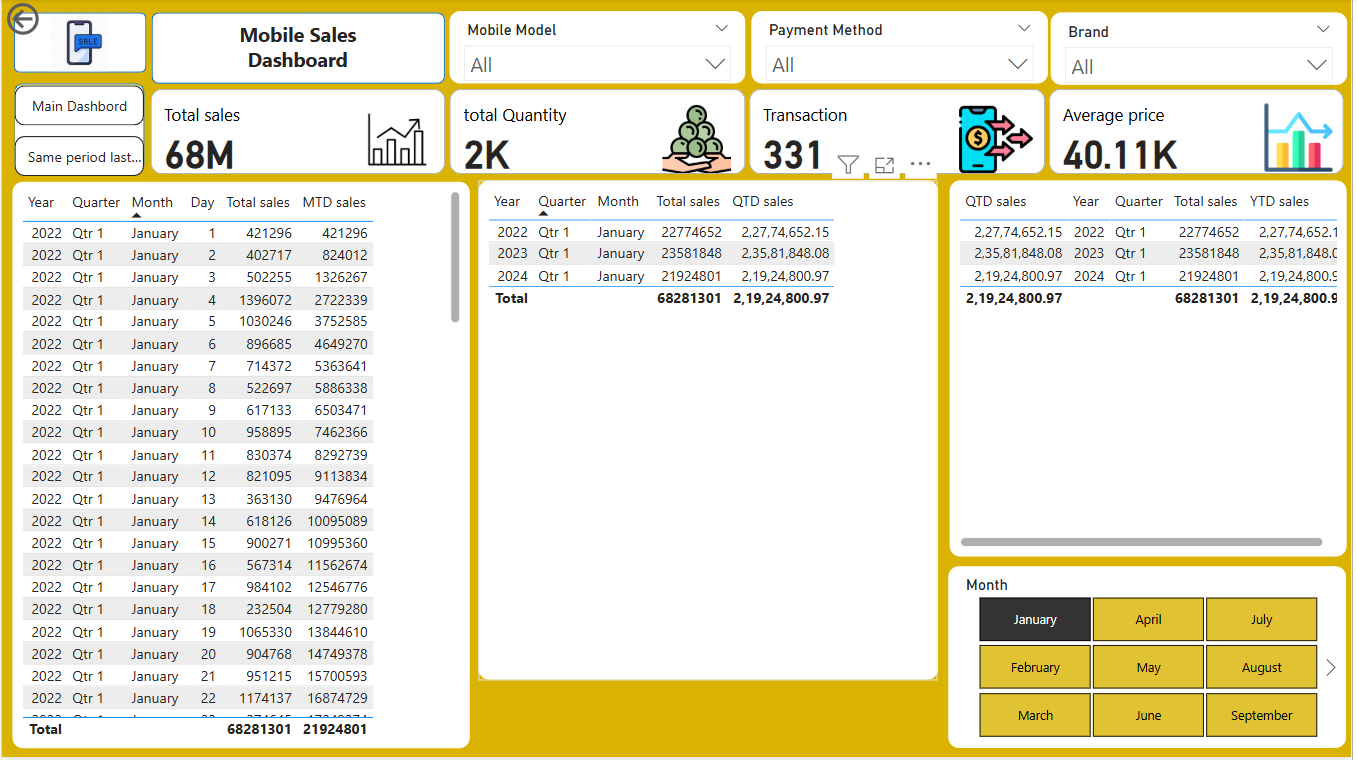

Layout of this report page (visuals, bound fields, positions):
{"tool":"powerbi","page":{"name":"MTD QTD YTD","canvas":[1280,720],"ordinal":1},"visuals":[{"type":"shape","box":[10.7,13.3,125.3,57.3],"z":0},{"type":"shape","box":[11.2,80.6,124.4,85.6],"z":1000},{"type":"cardVisual","fields":{"Data":["Mobile sales data.Total sales","Mobile sales data.total unit sold","Mobile sales data.Transaction","Avg(Mobile sales data.Average price)"]},"box":[136,81,1144,91],"z":2000},{"type":"shape","box":[142.3,13.5,278.5,67.7],"z":3000},{"type":"textbox","box":[208.3,16.7,145,60],"z":4000},{"type":"slicer","fields":{"Values":["Mobile sales data.Payment Method"]},"box":[710.3,12.6,281.3,68.7],"z":5000},{"type":"slicer","fields":{"Values":["Mobile sales data.Mobile Model"]},"box":[424.8,12.6,280.6,68.7],"z":6000},{"type":"slicer","fields":{"Values":["Mobile sales data.Brand"]},"box":[994.5,13.5,281,68.7],"z":7000},{"type":"actionButton","box":[0,0,100,40],"z":8000},{"type":"tableEx","fields":{"Values":["Custom Calendar.Date.Variation.Date Hierarchy.Year","Custom Calendar.Date.Variation.Date Hierarchy.Quarter","Custom Calendar.Date.Variation.Date Hierarchy.Month","Custom Calendar.Date.Variation.Date Hierarchy.Day","Mobile sales data.Total sales","Mobile sales data.MTD sales"]},"box":[10,173.8,433.8,537.5],"z":9000},{"type":"tableEx","fields":{"Values":["Custom Calendar.Date.Variation.Date Hierarchy.Year","Custom Calendar.Date.Variation.Date Hierarchy.Quarter","Custom Calendar.Date.Variation.Date Hierarchy.Month","Mobile sales data.Total sales","Mobile sales data.QTD sales"]},"box":[452.2,173.3,435.6,473.3],"z":10000},{"type":"tableEx","fields":{"Values":["Mobile sales data.QTD sales","Custom Calendar.Date.Variation.Date Hierarchy.Year","Custom Calendar.Date.Variation.Date Hierarchy.Quarter","Mobile sales data.Total sales","Mobile sales data.YTD sales"]},"box":[898.9,173.3,376.7,356.7],"z":11000},{"type":"slicer","fields":{"Values":["Custom Calendar.Date.Variation.Date Hierarchy.Month"]},"box":[897.5,538.8,377.5,172.5],"z":12000},{"type":"pageNavigator","box":[11.2,82.1,125.7,88.4],"z":13000},{"type":"image","box":[34.8,10,77.2,64.7],"z":14000}]}

Visuals, with their boxes in screenshot pixels (x1, y1, x2, y2), scaled from the page's 1280x720 canvas onto the 1357x760 screenshot:
shape: {"x1": 11, "y1": 14, "x2": 144, "y2": 75}
shape: {"x1": 12, "y1": 85, "x2": 144, "y2": 175}
cardVisual - Mobile sales data.Total sales x Mobile sales data.total unit sold: {"x1": 144, "y1": 86, "x2": 1356, "y2": 182}
shape: {"x1": 151, "y1": 14, "x2": 446, "y2": 86}
textbox: {"x1": 221, "y1": 18, "x2": 375, "y2": 81}
slicer - Mobile sales data.Payment Method: {"x1": 753, "y1": 13, "x2": 1051, "y2": 86}
slicer - Mobile sales data.Mobile Model: {"x1": 450, "y1": 13, "x2": 748, "y2": 86}
slicer - Mobile sales data.Brand: {"x1": 1054, "y1": 14, "x2": 1352, "y2": 87}
actionButton: {"x1": 0, "y1": 0, "x2": 106, "y2": 42}
tableEx - Custom Calendar.Date.Variation.Date Hierarchy.Year x Custom Calendar.Date.Variation.Date Hierarchy.Quarter: {"x1": 11, "y1": 183, "x2": 470, "y2": 751}
tableEx - Custom Calendar.Date.Variation.Date Hierarchy.Year x Custom Calendar.Date.Variation.Date Hierarchy.Quarter: {"x1": 479, "y1": 183, "x2": 941, "y2": 683}
tableEx - Mobile sales data.QTD sales x Custom Calendar.Date.Variation.Date Hierarchy.Year: {"x1": 953, "y1": 183, "x2": 1352, "y2": 559}
slicer - Custom Calendar.Date.Variation.Date Hierarchy.Month: {"x1": 951, "y1": 569, "x2": 1352, "y2": 751}
pageNavigator: {"x1": 12, "y1": 87, "x2": 145, "y2": 180}
image: {"x1": 37, "y1": 11, "x2": 119, "y2": 79}
